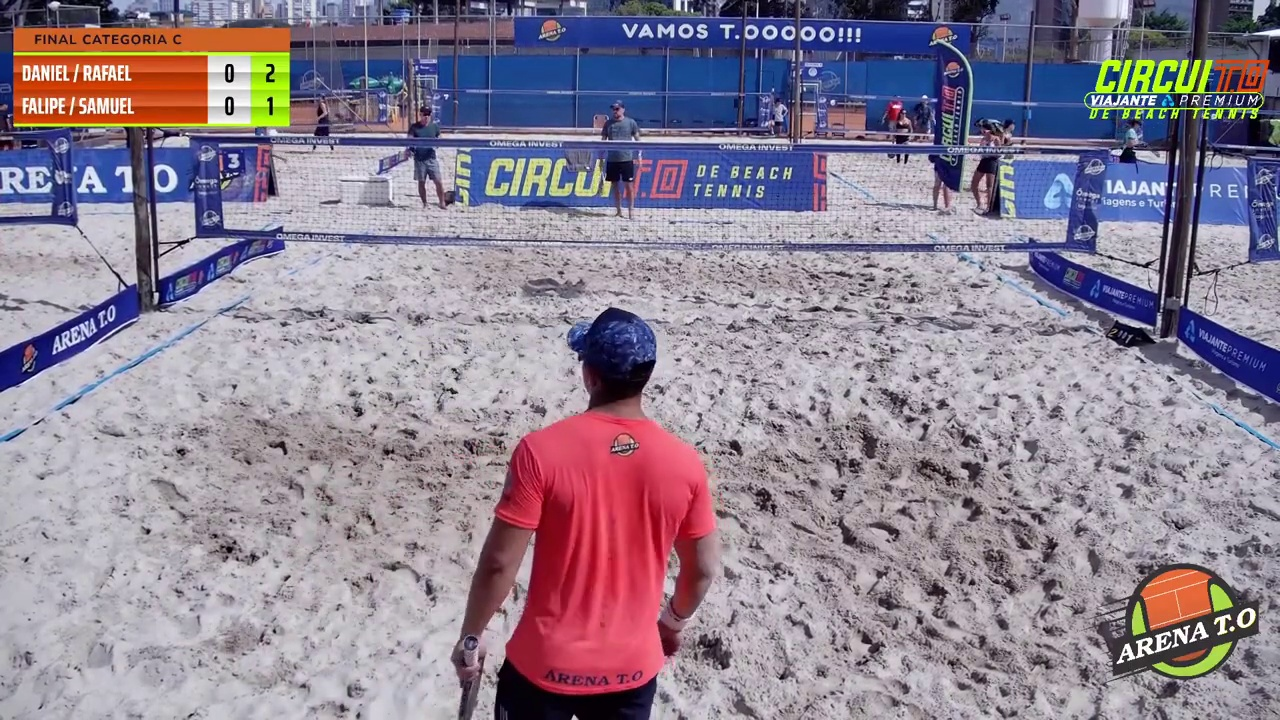court_line: (448, 0, 594, 508)
